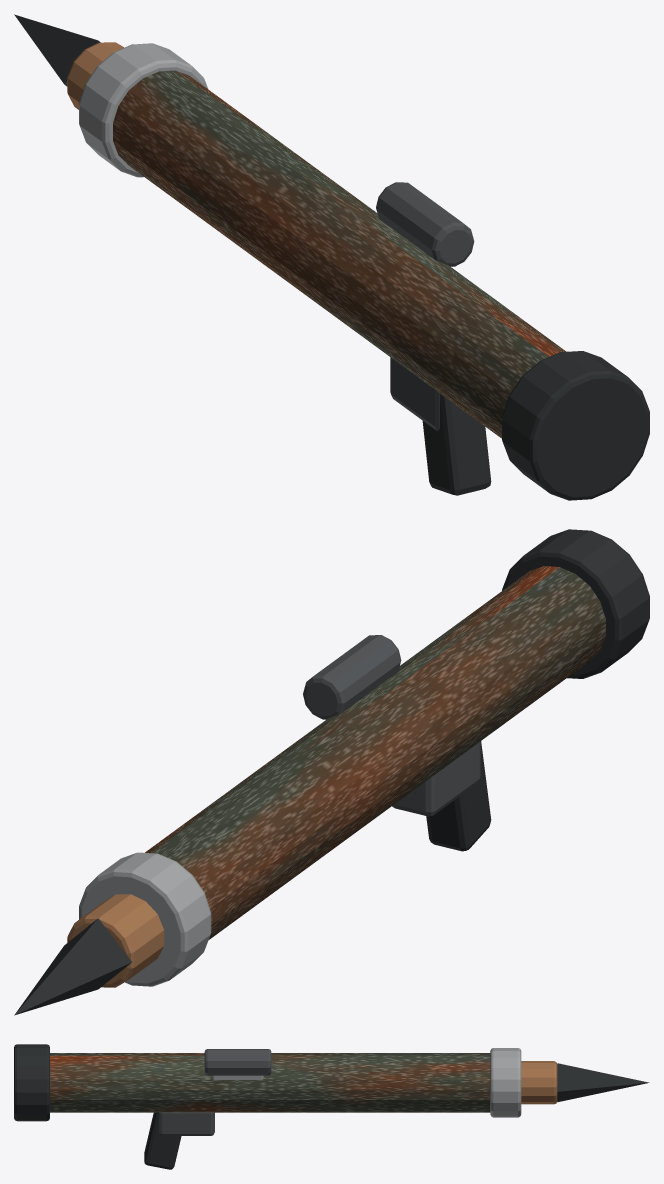
The model's file is wpn_launcher.glb.
3 views of the same model, one above another, from view 1: azimuth 30°, elevation 25°; view 2: azimuth 150°, elevation 25°; view 3: azimuth 270°, elevation 25° (orthographic). The views are drawn at different scales.
Parts seen in each view (by area): view 1: Tube, TubeRear, TubeMouth, Grip, Optic, Warhead, TriggerGroup, Rocket; view 2: Tube, TubeRear, TubeMouth, Warhead, Optic, Rocket, Grip, TriggerGroup; view 3: Tube, TubeRear, TubeMouth, Warhead, Optic, Rocket, TriggerGroup, Grip, SightBracket.
Part boxes in pixels (x1,y1,x2,y2): Tube: [113, 70, 566, 438]; TubeRear: [502, 351, 649, 500]; TubeMouth: [79, 43, 207, 177]; Grip: [422, 393, 491, 495]; Optic: [376, 182, 474, 266]; Warhead: [14, 14, 100, 86]; TriggerGroup: [390, 357, 439, 430]; Rocket: [67, 42, 123, 109]; Tube: [145, 566, 605, 939]; TubeRear: [502, 529, 649, 678]; TubeMouth: [79, 852, 211, 986]; Warhead: [14, 918, 131, 1015]; Optic: [303, 635, 401, 719]; Rocket: [67, 894, 164, 987]; Grip: [426, 741, 491, 851]; TriggerGroup: [392, 741, 480, 816]; Tube: [50, 1053, 490, 1112]; TubeRear: [14, 1044, 49, 1121]; TubeMouth: [490, 1048, 521, 1117]; Warhead: [557, 1063, 649, 1102]; Optic: [204, 1049, 271, 1075]; Rocket: [521, 1061, 557, 1104]; TriggerGroup: [159, 1112, 214, 1135]; Grip: [144, 1112, 181, 1169]; SightBracket: [212, 1075, 263, 1079].
Size of the model in its own units: 0.1477 by 0.269 by 1.24.
5 materials, 1 textured.
